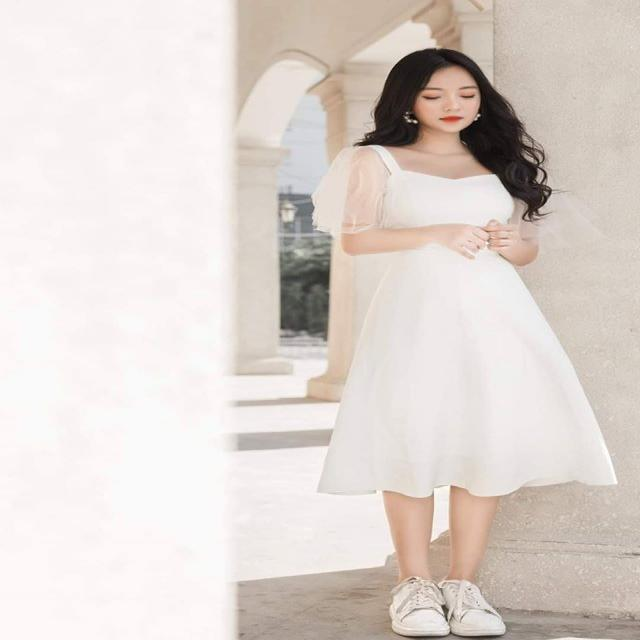clothes: (306, 141, 619, 495)
